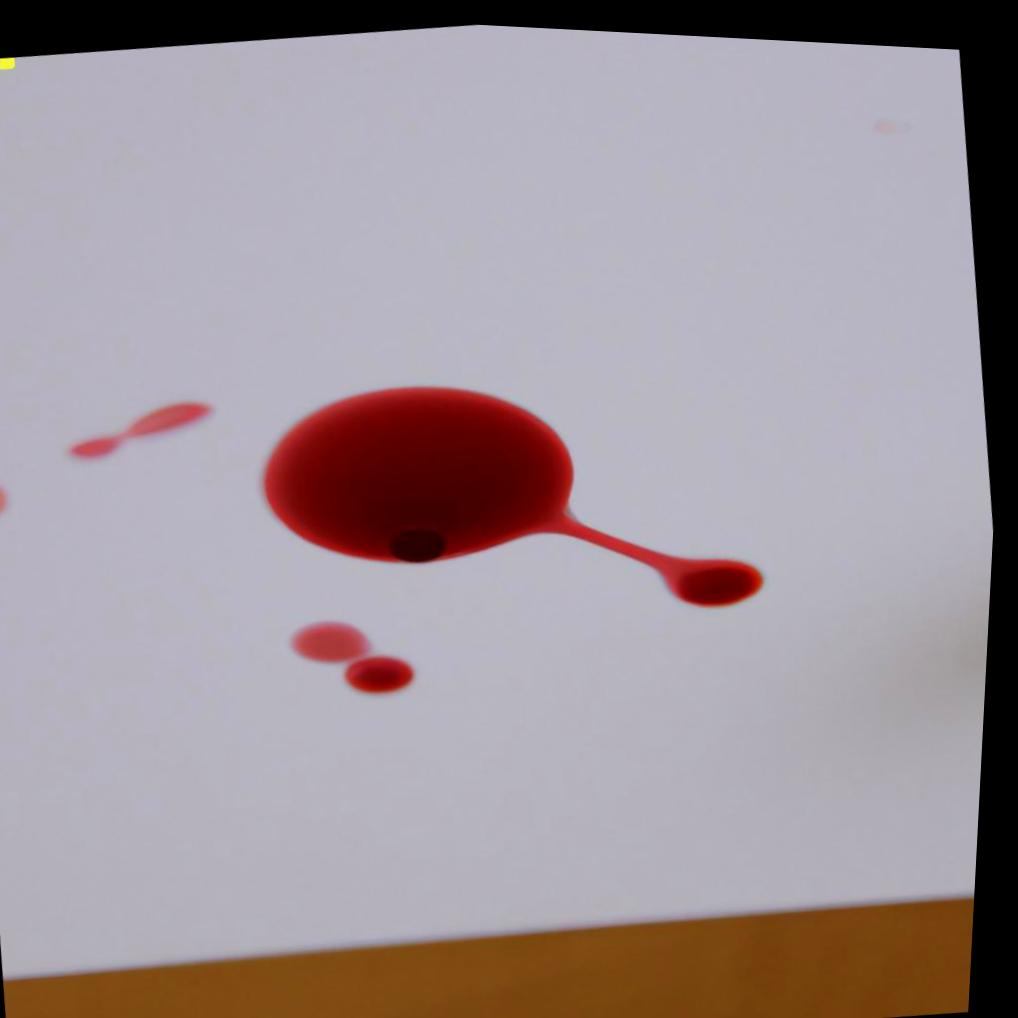Fire: (270, 382, 769, 600), (297, 618, 422, 690)
